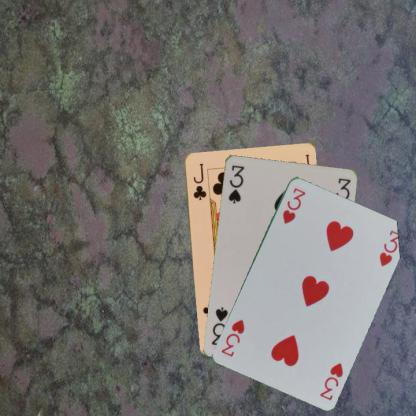3h: (317, 359, 344, 401), (280, 185, 307, 225)
3s: (226, 162, 246, 204)
Jc: (190, 161, 208, 201)
